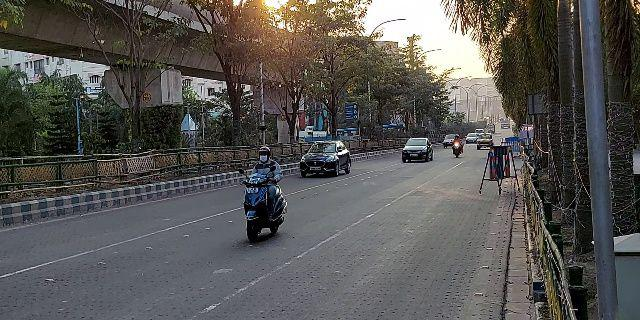Car: (297, 134, 356, 183), (400, 133, 437, 164), (475, 128, 496, 153)
Motorbike: (240, 139, 290, 243), (450, 129, 466, 162)
